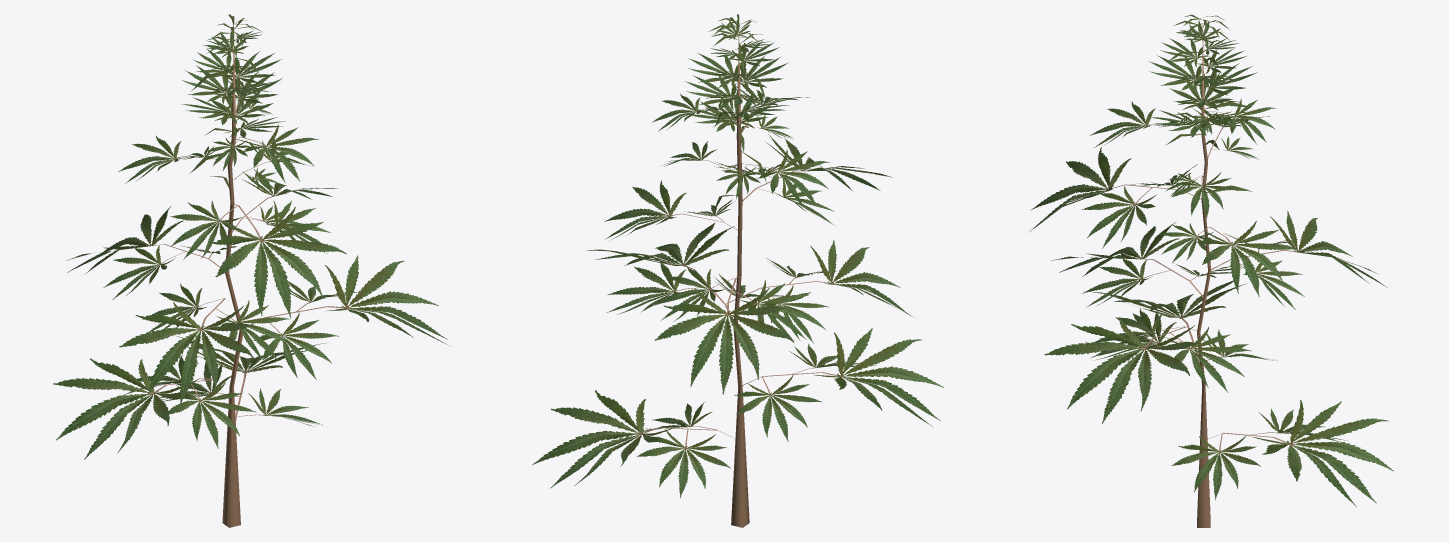
File: Small Cannabis Plant.fbx
The picture shows the model from 3 angles, left to right: view 1: azimuth 30°, elevation 25°; view 2: azimuth 150°, elevation 25°; view 3: azimuth 270°, elevation 25°; orthographic projection.
Visible parts, largest first — view 1: Small Cannabis Plant; view 2: Small Cannabis Plant; view 3: Small Cannabis Plant.
Boxes of the visible parts, left/top/right/bottom form: Small Cannabis Plant: left=53, top=14, right=450, bottom=527; Small Cannabis Plant: left=532, top=14, right=943, bottom=527; Small Cannabis Plant: left=1030, top=14, right=1393, bottom=527.
Bounding box in the file's own units: 100 × 116 × 88.72.
